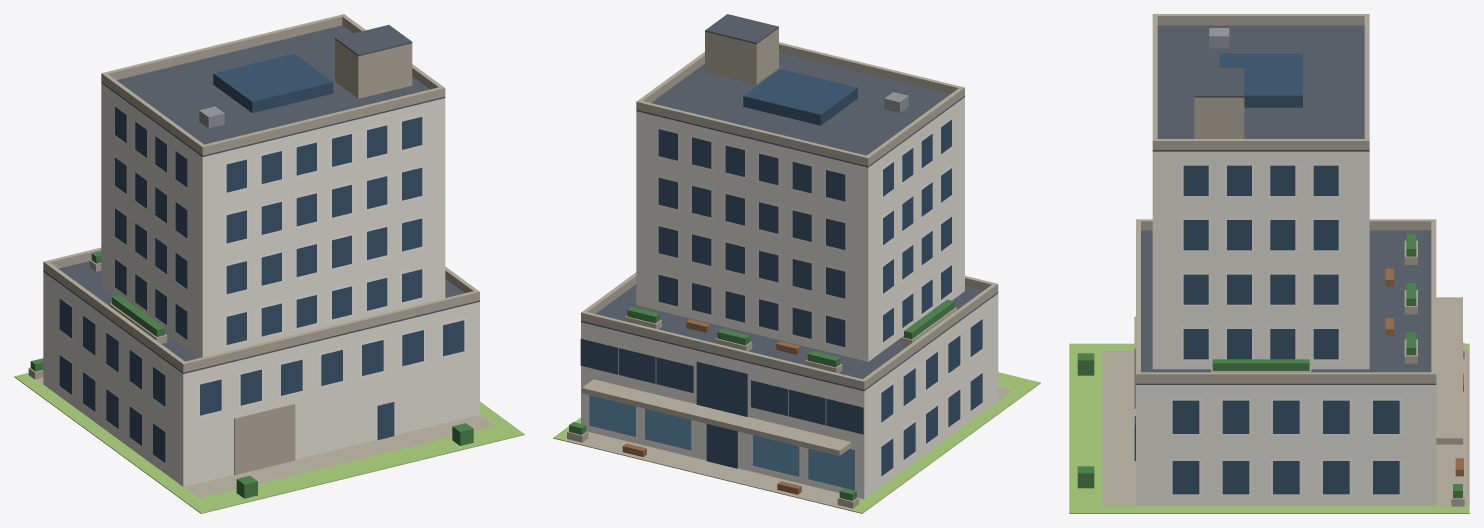
3 renders of one model, left to right at view 1: azimuth 30°, elevation 25°; view 2: azimuth 150°, elevation 25°; view 3: azimuth 270°, elevation 25°, orthographic. The views are drawn at different scales.
Visible parts, largest first — view 1: wall (×2), window_glass (×31), roof (×3), parapet (×5), lawn (×2), roof_light, paving, garage_door, plant_room, hedge, door; view 2: wall (×2), roof (×3), window_glass (×24), parapet (×7), window_band (×7), storefront (×4), canopy, roof_light, paving, plant_room, lawn (×2), door (+1 smaller); view 3: wall (×2), roof (×3), window_glass (×26), parapet (×8), lawn (×2), paving, canopy, roof_light, plant_room, hedge.
Boxes of the visible parts, x1=… form: wall (×2): x1=43, y1=83, x2=479, y2=486; window_glass (×31): x1=200, y1=117, x2=464, y2=415; roof (×3): x1=43, y1=25, x2=479, y2=373; parapet (×5): x1=45, y1=14, x2=479, y2=372; lawn (×2): x1=14, y1=373, x2=524, y2=513; roof_light: x1=213, y1=53, x2=333, y2=112; paving: x1=28, y1=373, x2=494, y2=498; garage_door: x1=234, y1=403, x2=295, y2=474; plant_room: x1=335, y1=39, x2=412, y2=98; hedge: x1=112, y1=295, x2=164, y2=336; door: x1=377, y1=402, x2=394, y2=439; wall (×2): x1=581, y1=97, x2=998, y2=498; roof (×3): x1=581, y1=14, x2=998, y2=391; window_glass (×24): x1=658, y1=129, x2=845, y2=346; parapet (×7): x1=581, y1=42, x2=995, y2=389; window_band (×7): x1=580, y1=339, x2=863, y2=434; storefront (×4): x1=589, y1=395, x2=854, y2=490; canopy: x1=582, y1=379, x2=851, y2=455; roof_light: x1=743, y1=69, x2=857, y2=125; paving: x1=566, y1=386, x2=1012, y2=510; plant_room: x1=705, y1=28, x2=778, y2=84; lawn (×2): x1=849, y1=372, x2=1040, y2=513; door: x1=706, y1=424, x2=737, y2=468; wall (×2): x1=1136, y1=151, x2=1436, y2=505; roof (×3): x1=1136, y1=25, x2=1436, y2=384; window_glass (×26): x1=1172, y1=165, x2=1399, y2=494; parapet (×8): x1=1136, y1=14, x2=1436, y2=383; lawn (×2): x1=1069, y1=343, x2=1469, y2=513; paving: x1=1102, y1=351, x2=1469, y2=505; canopy: x1=1436, y1=297, x2=1462, y2=444; roof_light: x1=1219, y1=53, x2=1302, y2=107; plant_room: x1=1194, y1=97, x2=1244, y2=138; hedge: x1=1212, y1=359, x2=1309, y2=370.
Bounding box in the file's own units: 24 × 25.76 × 24.
